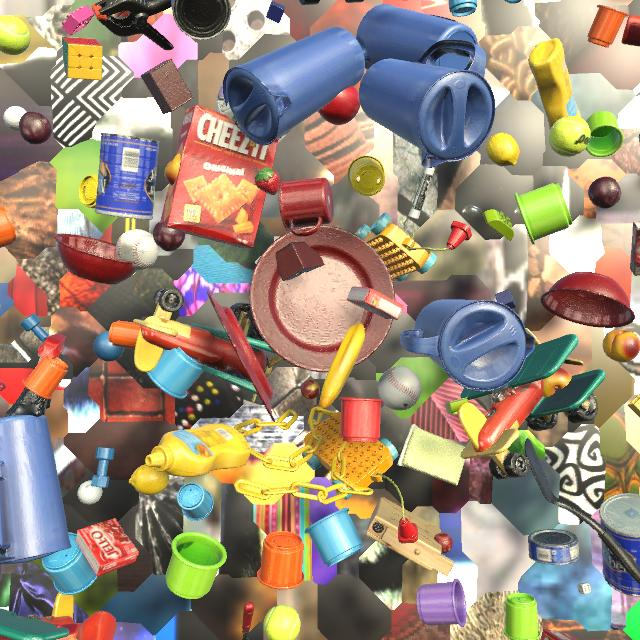ycb_002_master_chef_can: (94, 133, 160, 220), (599, 493, 640, 597), (171, 0, 231, 40)
ycb_003_cracker_box: (161, 105, 279, 249), (541, 629, 579, 640), (582, 639, 595, 640)
ycb_006_mustard_bottle: (145, 423, 251, 477), (528, 38, 581, 130)
ycb_007_tuna_fish_can: (528, 529, 580, 565), (0, 564, 2, 581), (638, 134, 640, 144)
ycb_008_pudding_box: (630, 222, 640, 276)
ycb_009_gelatin_box: (75, 518, 139, 577), (347, 286, 404, 320)
ycb_011_banana: (319, 323, 365, 409)
ycb_012_strawberry: (255, 168, 280, 195)
ycb_013_apple: (318, 86, 360, 125)
ycb_014_lemon: (129, 464, 170, 495), (486, 133, 520, 167)
ycb_015_peach: (603, 330, 640, 363), (542, 367, 572, 398), (164, 153, 181, 186)
ycb_018_plum: (19, 111, 52, 145), (588, 176, 621, 209), (153, 221, 185, 252)
